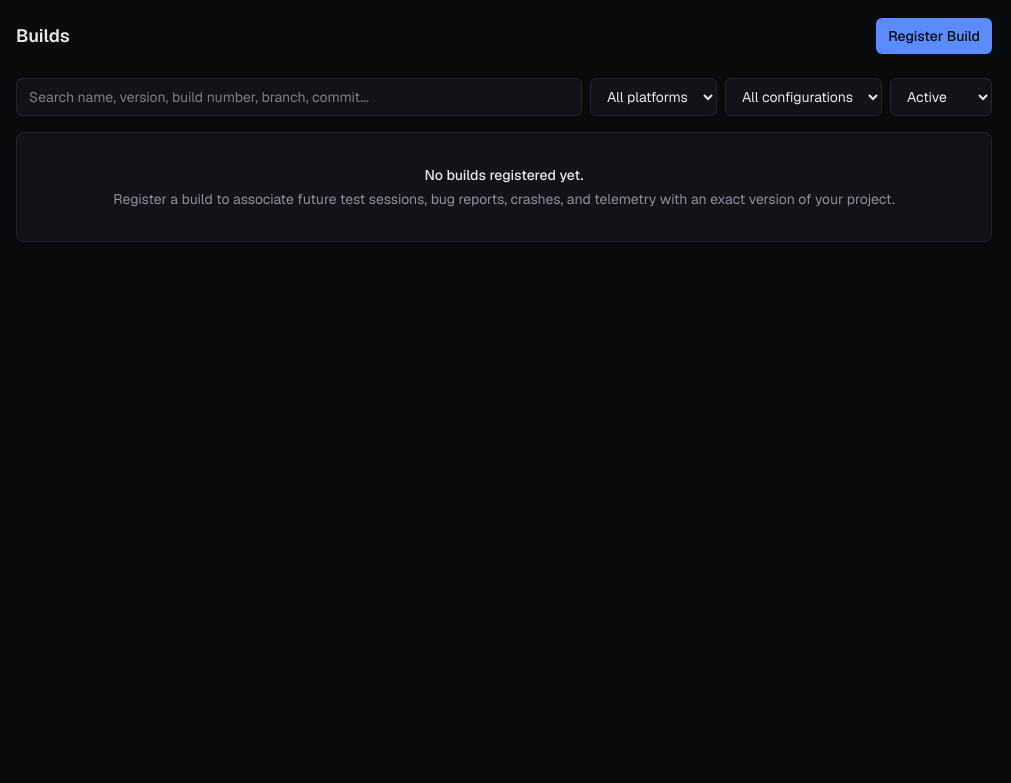
Scenario: BuildsPage › validates required fields before submitting the register form
Click the button "Register Build": (934, 36) [876, 18, 992, 54]
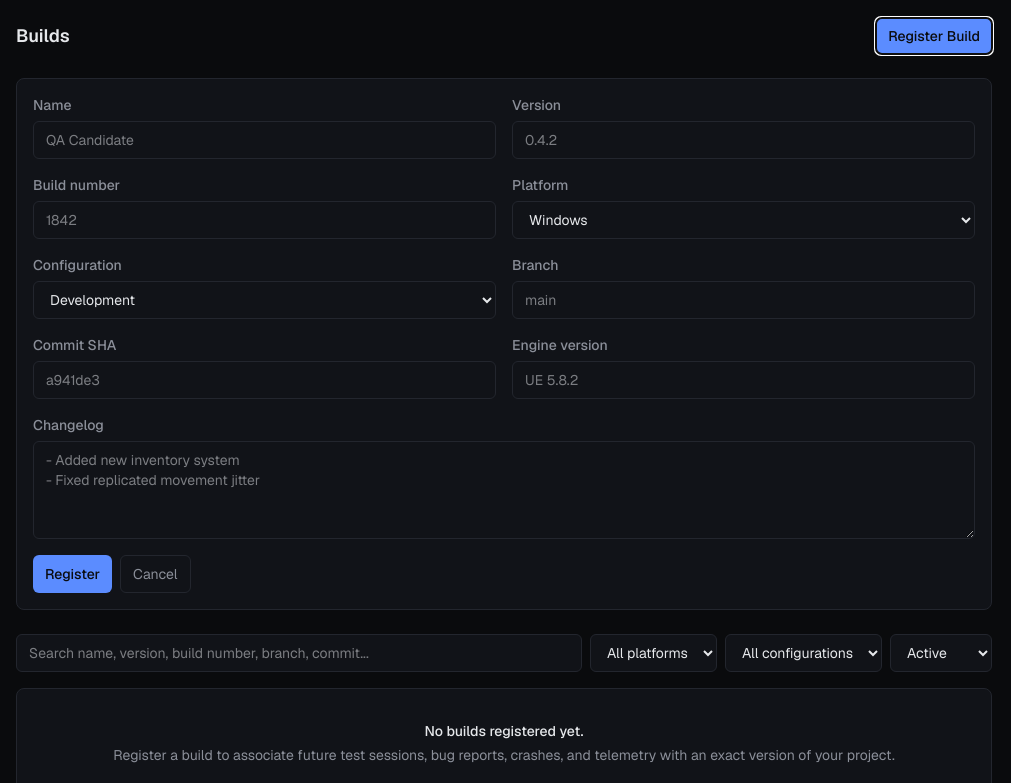
In the field with placeholder "0.4.2": (744, 140) [512, 121, 975, 159], type "1.0.0"
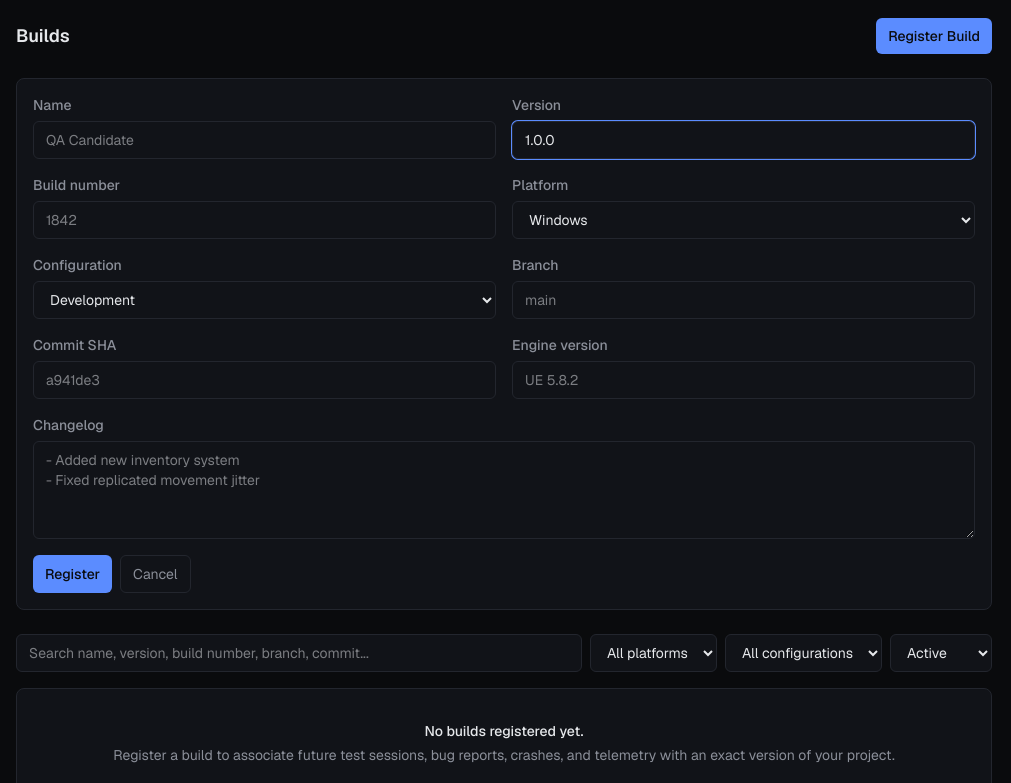
Click the button "Register": (73, 574) [33, 555, 112, 593]
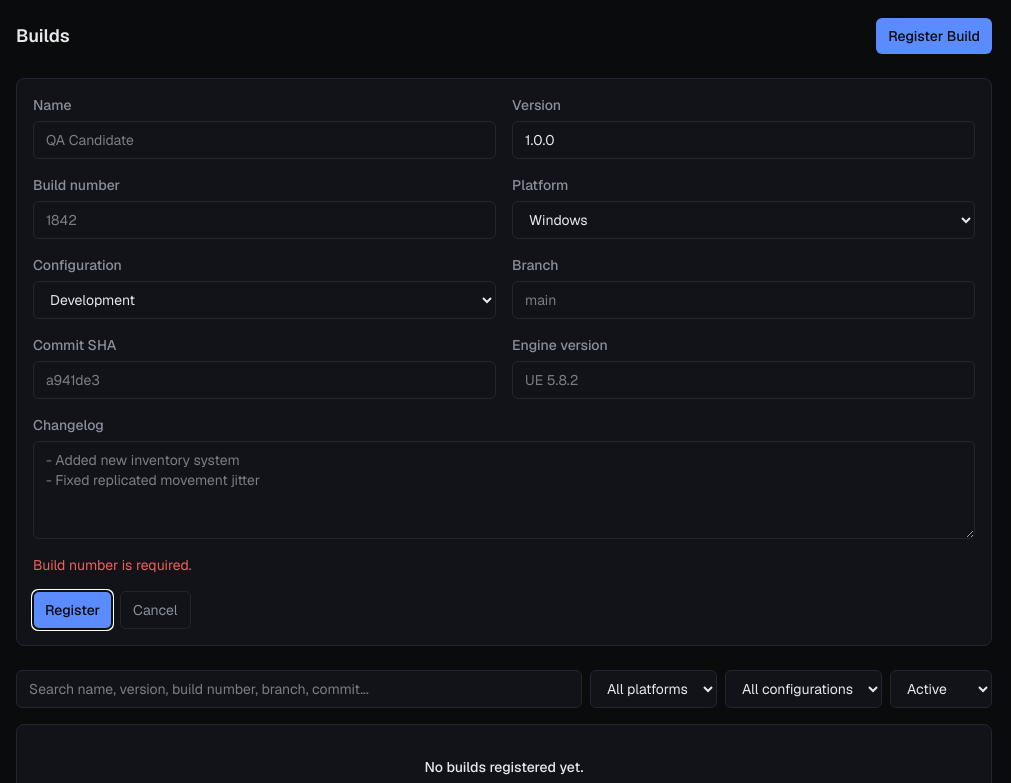
Check: the text "Build number is required." is shown, box [33, 556, 192, 574]
